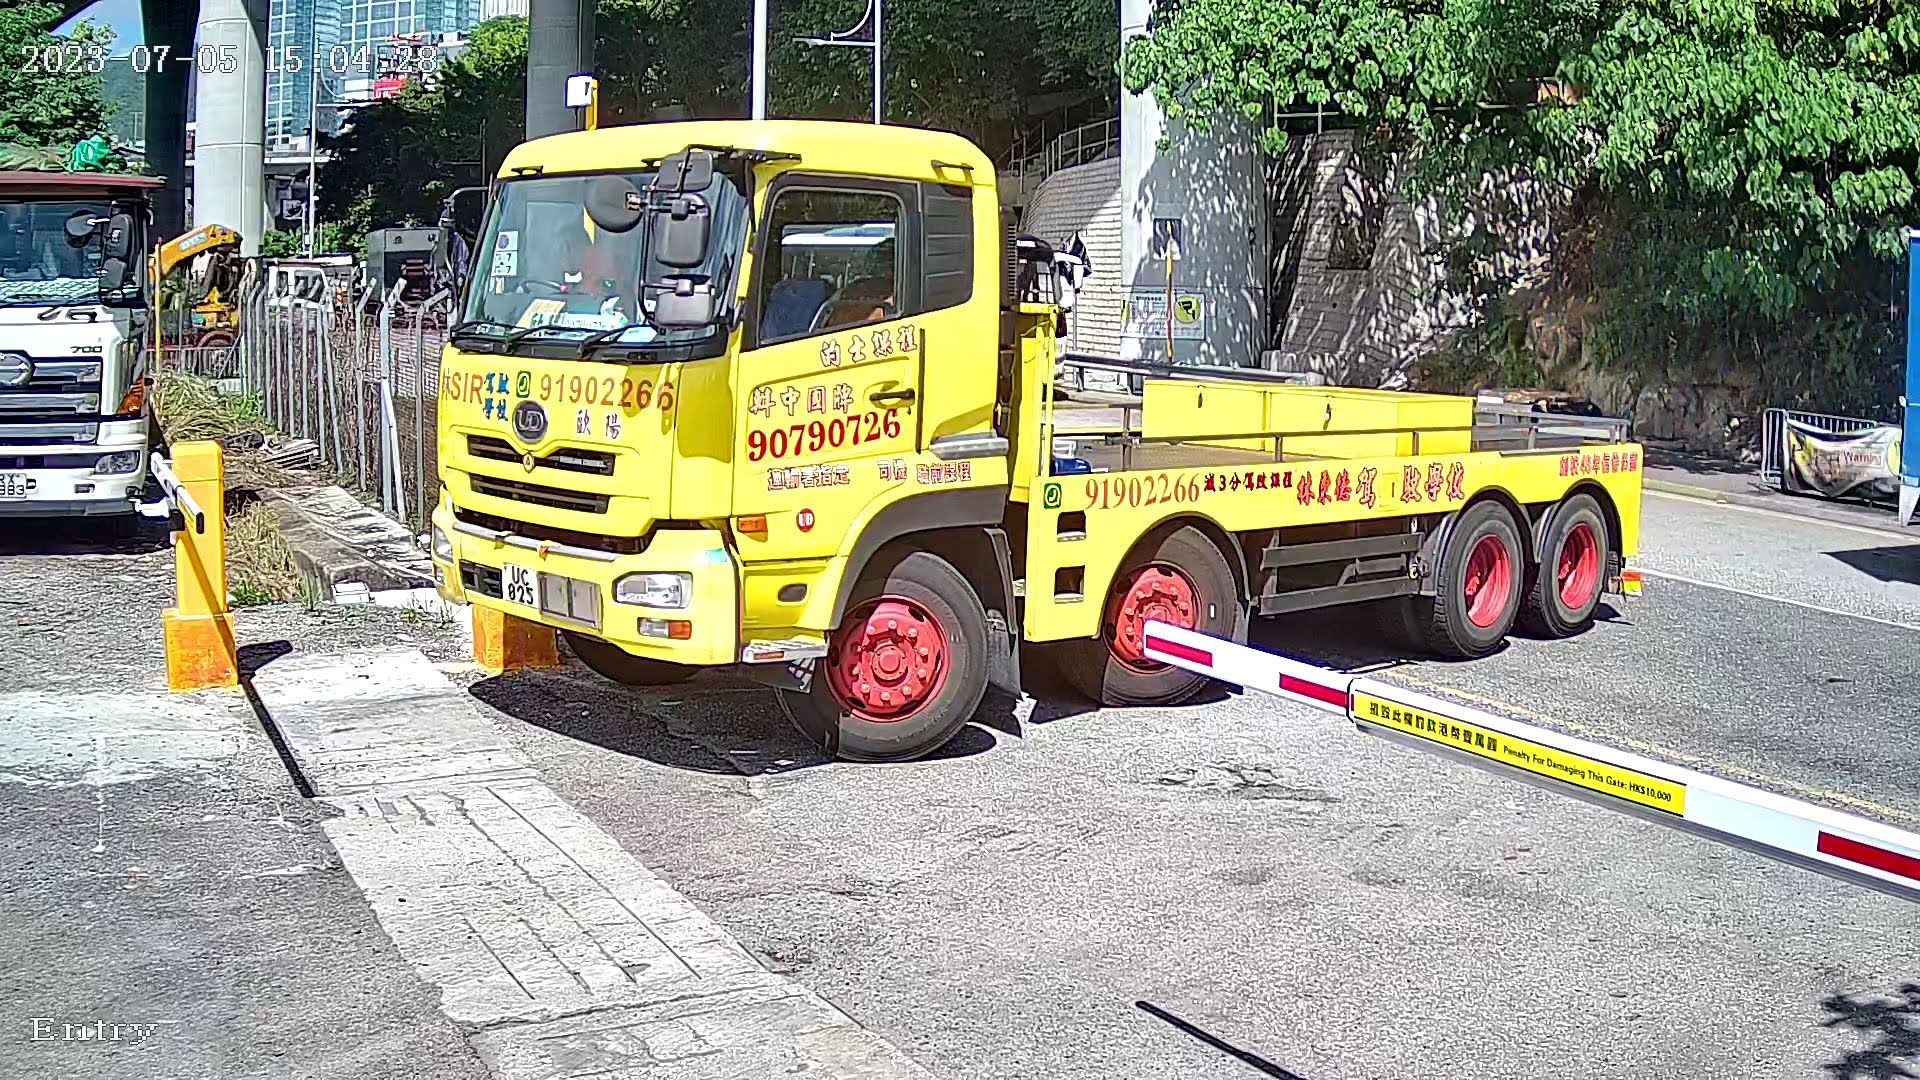truck_small: (404, 83, 1698, 764)
